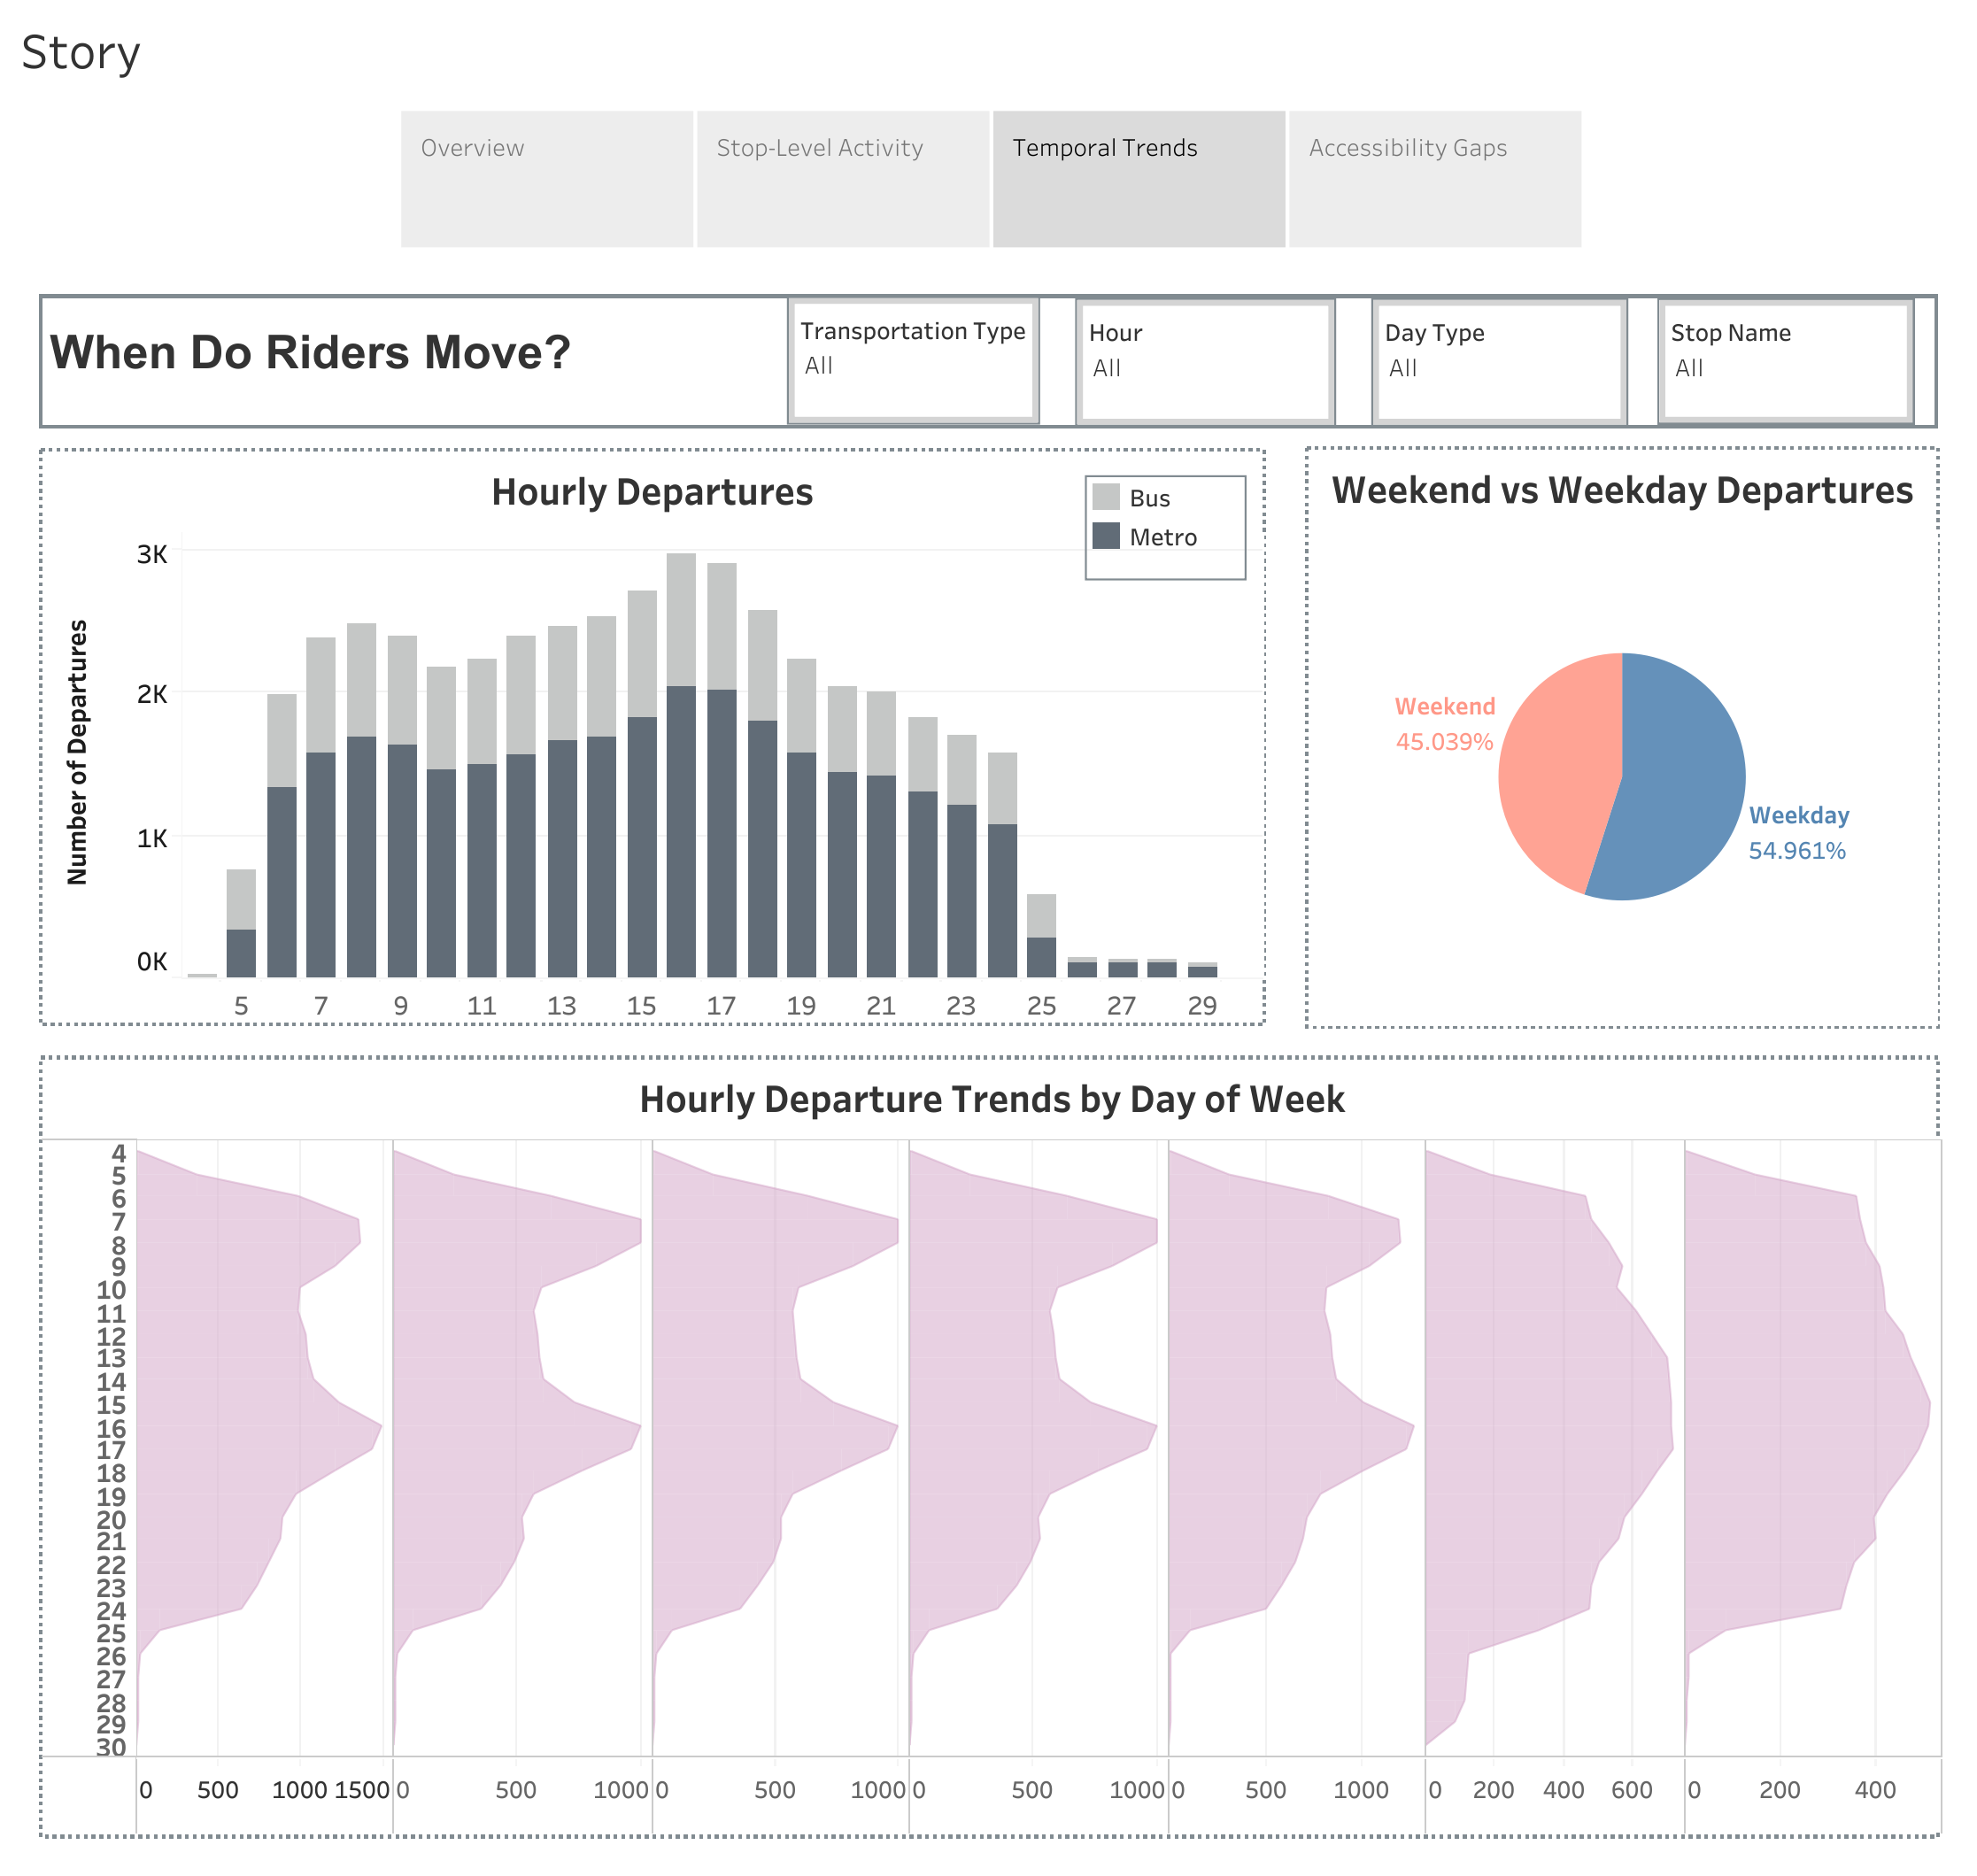

What the dashboard file says about the page in this screenshot:
{"tool":"tableau","page":{"name":"Temporal Trends","canvas":[1000,1000],"units":"permille","ordinal":3},"visuals":[{"type":"filter","title":"Hourly Departures","param":"[federated.0f4jjsb0i0oyep11vr2by00n93gf].[none:Calculation_6791780142825332740:n","box":[395.6,11.2,130.1,80.5]},{"type":"filter","title":"Hourly Departures","param":"[federated.0f4jjsb0i0oyep11vr2by00n93gf].[none:hour:ok]","box":[544.4,12.4,133.2,80.5]},{"type":"filter","title":"Hourly Departures","param":"[federated.0f4jjsb0i0oyep11vr2by00n93gf].[none:Calculation_6791780142633451521:n","box":[696.3,12.4,131.6,80.5]},{"type":"filter","title":"Hourly Departures","param":"[federated.0f4jjsb0i0oyep11vr2by00n93gf].[none:stop_name:nk]","box":[842.7,12.4,132.4,79.3]},{"type":"text","box":[14.8,23.5,338.8,68.2]},{"type":"worksheet","title":"Hourly Departures","mark":"Automatic","rows":["Calculation_6791780142639681538"],"cols":["hour"],"box":[6.3,94.2,636.3,391.6]},{"type":"worksheet","title":"Weekend vs Weekday Departures","mark":"Pie","box":[642.6,94.2,351.2,391.6]},{"type":"legend","title":"Hourly Departures","param":"[federated.0f4jjsb0i0oyep11vr2by00n93gf].[none:Calculation_6791780142825332740:n","box":[549.1,123.9,82.5,66.9]},{"type":"worksheet","title":"Hourly Departure Trends by Day","mark":"Area","rows":["hour"],"cols":["monday","tuesday","wednesday","thursday","friday","saturday","sunday"],"box":[6.3,485.8,987.4,504.3]}]}

Visuals, with their boxes on the dashboard's canvas, which has no fixed pixel size, in thousandths of its width and height (x1, y1, x2, y2). These are canvas units, not pixel positions in the 1977x1876 screenshot, which may show the page scaled, cropped or inside an application window:
"Hourly Departures" filter: x1=396 y1=11 x2=526 y2=92
"Hourly Departures" filter: x1=544 y1=12 x2=678 y2=93
"Hourly Departures" filter: x1=696 y1=12 x2=828 y2=93
"Hourly Departures" filter: x1=843 y1=12 x2=975 y2=92
text: x1=15 y1=24 x2=354 y2=92
"Hourly Departures" worksheet: x1=6 y1=94 x2=643 y2=486
"Weekend vs Weekday Departures" worksheet (Pie marks): x1=643 y1=94 x2=994 y2=486
"Hourly Departures" legend: x1=549 y1=124 x2=632 y2=191
"Hourly Departure Trends by Day" worksheet (Area marks): x1=6 y1=486 x2=994 y2=990
